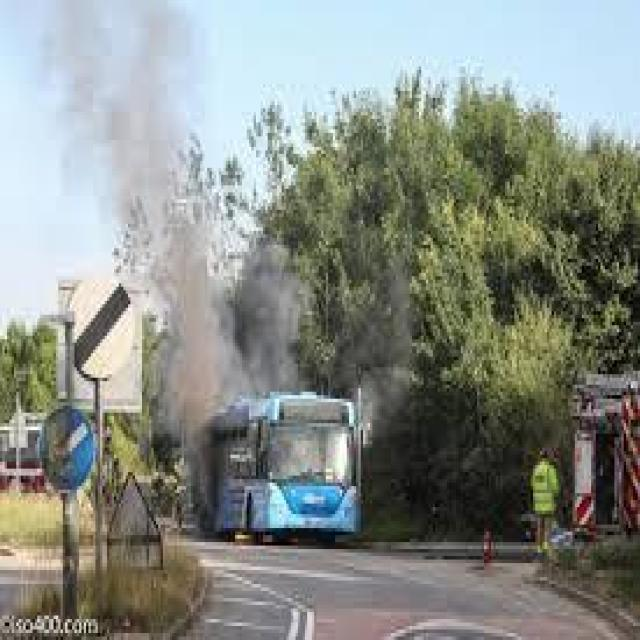smoke: (152, 206, 323, 425)
